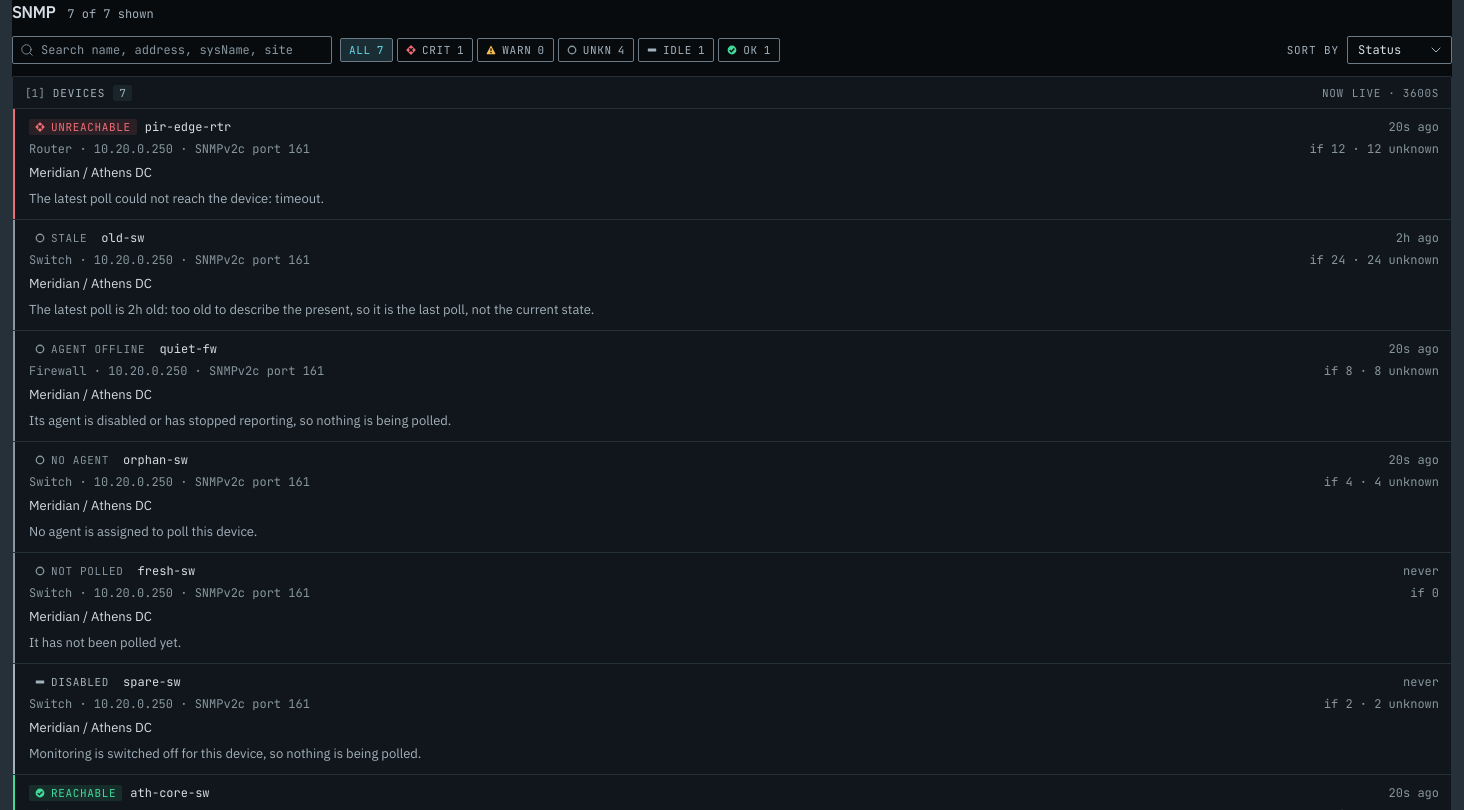
Test: on a phone › becomes cards with a sort menu, keeping the word, the interfaces and the reason
This screenshot has width=1464, height=810.
Expected: the text "too old to describe the present" is shown, [29, 301, 594, 318]
Expected: the text "switched off" is shown, [29, 745, 421, 762]
Select "Response" in the dropdown labelled "Sort by" at [1400, 50], box [1347, 36, 1452, 64]
(page scrolled)
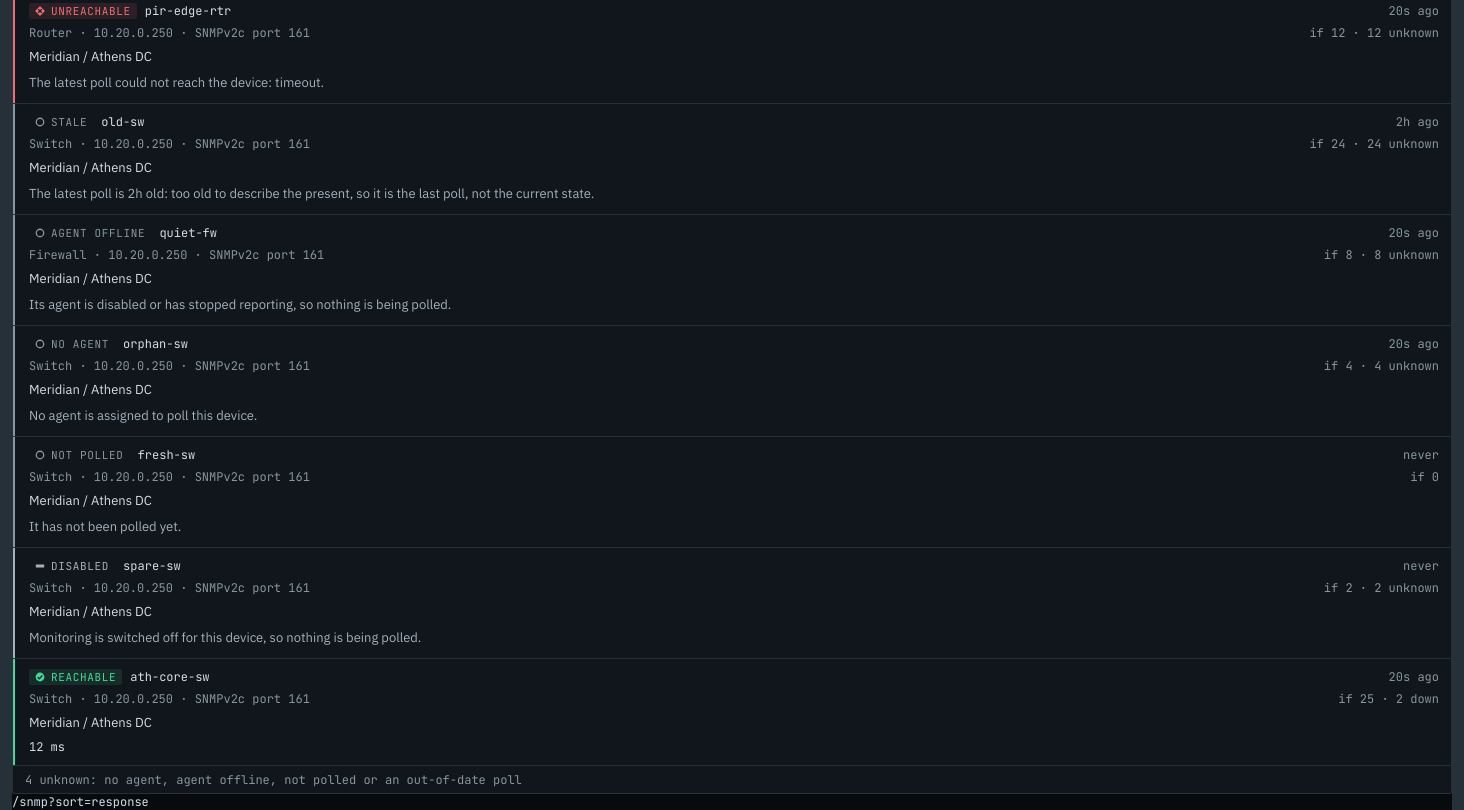
Expected: the text named "location" shows "sort=response", [12, 794, 149, 809]
